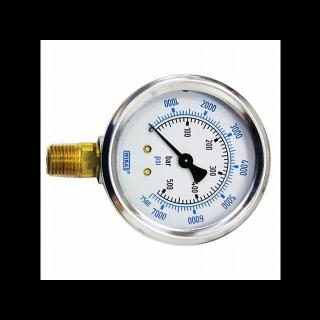gauge: (96, 70, 280, 272), (142, 116, 162, 136), (141, 187, 162, 201), (178, 152, 194, 168), (146, 120, 154, 129)
